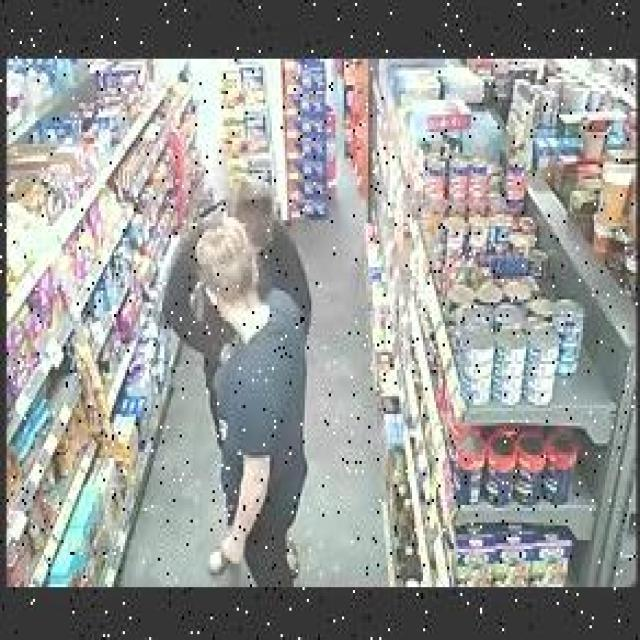Shoplifting: (145, 173, 342, 590)
